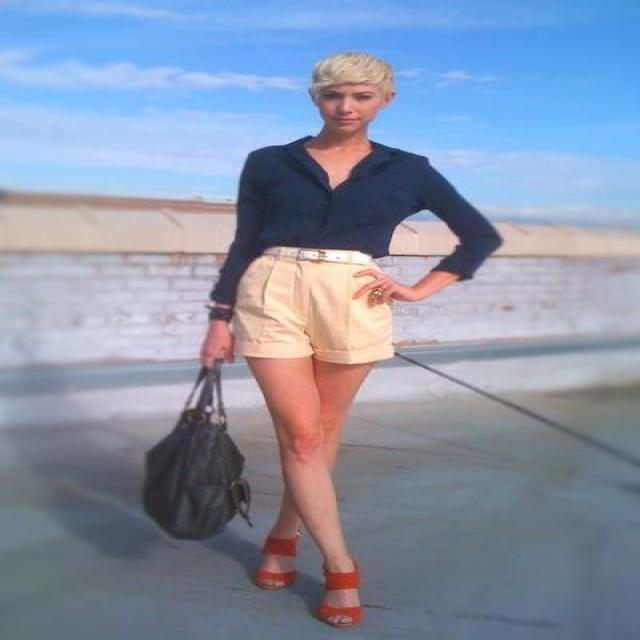bag: (140, 360, 250, 538)
shirt: (206, 141, 501, 319)
shoe: (250, 526, 363, 623)
shorts: (234, 252, 402, 362)
